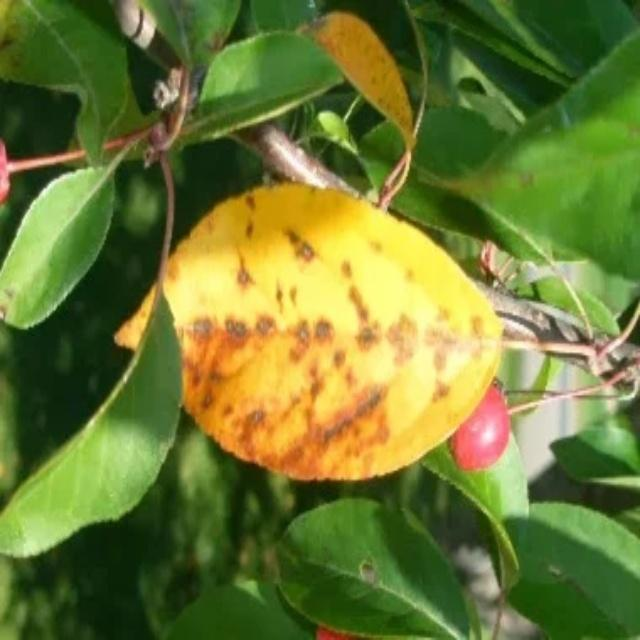shot_hole: (155, 151, 457, 497)
